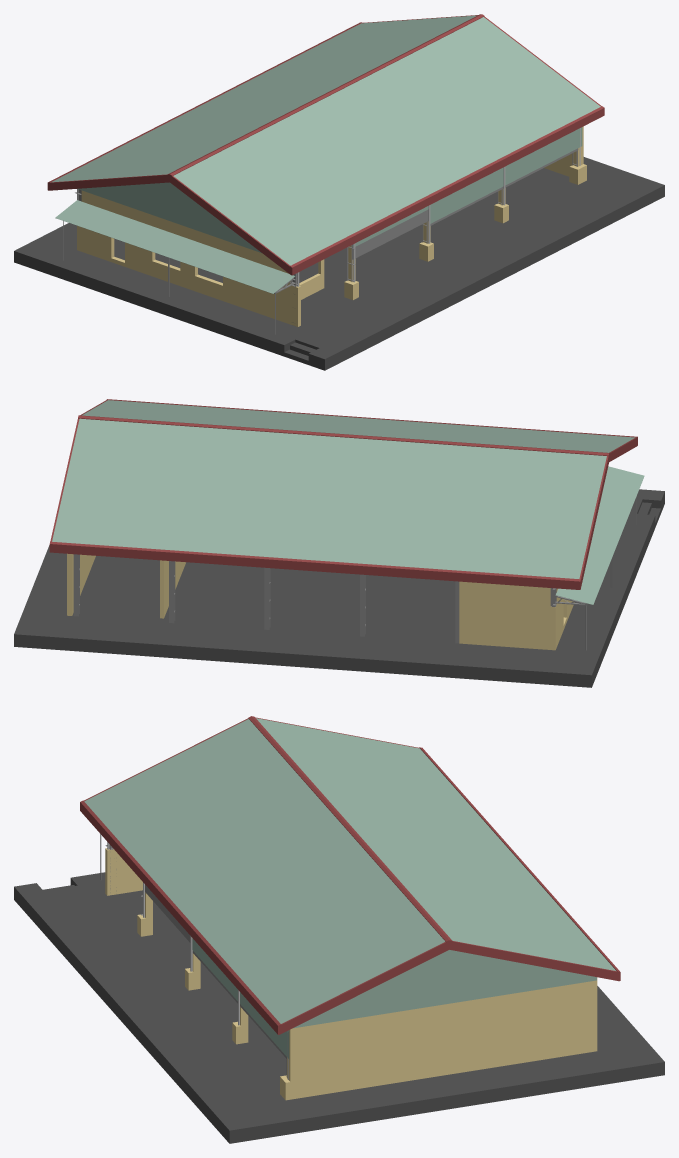
The picture shows the model from 3 angles, top to bottom: view 1: azimuth 30°, elevation 25°; view 2: azimuth 150°, elevation 25°; view 3: azimuth 270°, elevation 25°; orthographic projection. The views are drawn at different scales.
Parts seen in each view (by area): view 1: G棟, object 9, object 8, object 10, object 11; view 2: G棟, object 11, object 10, object 9, object 8, object 15, object 2, object 27; view 3: G棟, object 7, object 9, object 10, object 11.
Boxes of the visible parts, bbox=[...] form: G棟: bbox=[14, 15, 664, 370]; object 9: bbox=[290, 106, 604, 275]; object 8: bbox=[49, 174, 290, 274]; object 10: bbox=[167, 14, 484, 176]; object 11: bbox=[47, 22, 362, 190]; G棟: bbox=[14, 400, 664, 687]; object 11: bbox=[49, 541, 580, 589]; object 10: bbox=[78, 415, 609, 456]; object 9: bbox=[106, 399, 637, 445]; object 8: bbox=[579, 437, 637, 588]; object 15: bbox=[73, 554, 79, 616]; object 2: bbox=[169, 561, 175, 623]; object 27: bbox=[264, 567, 270, 629]; G棟: bbox=[14, 718, 664, 1143]; object 7: bbox=[279, 941, 618, 1034]; object 9: bbox=[80, 800, 281, 1034]; object 10: bbox=[248, 716, 452, 942]; object 11: bbox=[419, 747, 620, 981].
Size of the model in its own units: 30.64 by 7.06 by 26.96.
